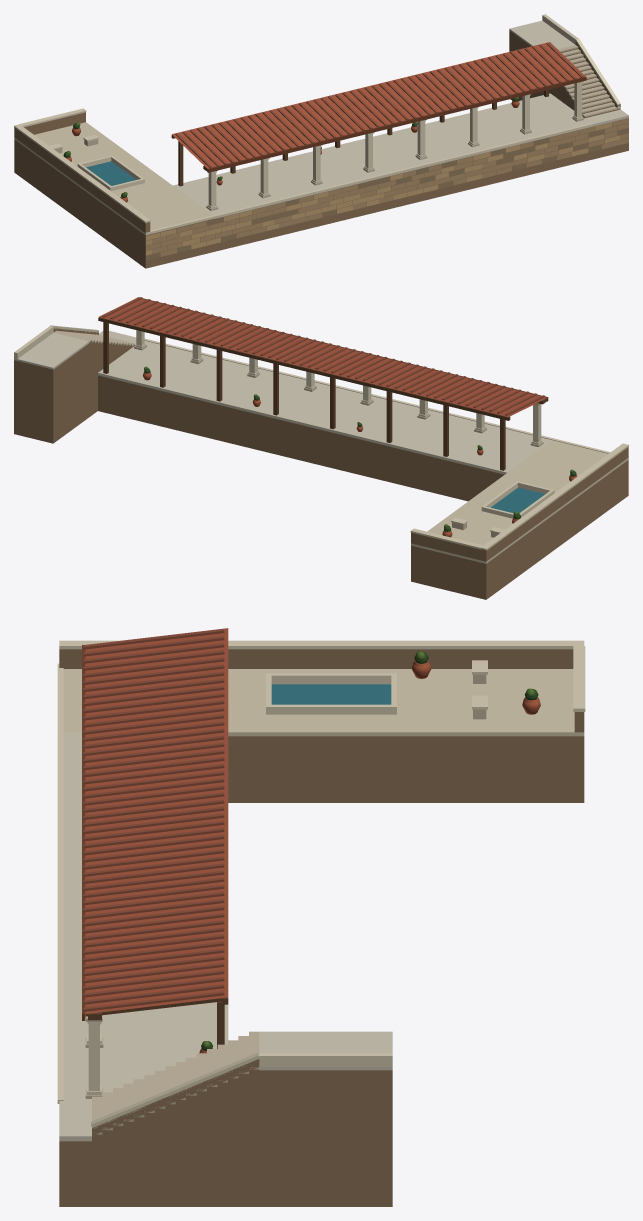
File: rome_domus_k_loggia.glb
3 views of the same model, one above another, from view 1: azimuth 30°, elevation 25°; view 2: azimuth 150°, elevation 25°; view 3: azimuth 270°, elevation 25° (orthographic). The views are drawn at different scales.
Parts seen in each view (by area): view 1: rome_domus_k_loggia; view 2: rome_domus_k_loggia; view 3: rome_domus_k_loggia.
Part boxes in pixels (x1,y1,x2,y2): rome_domus_k_loggia: (14, 14, 628, 268); rome_domus_k_loggia: (14, 297, 628, 599); rome_domus_k_loggia: (57, 628, 585, 1206).
Size of the model in its own units: 41.62 by 7.21 by 19.66.
